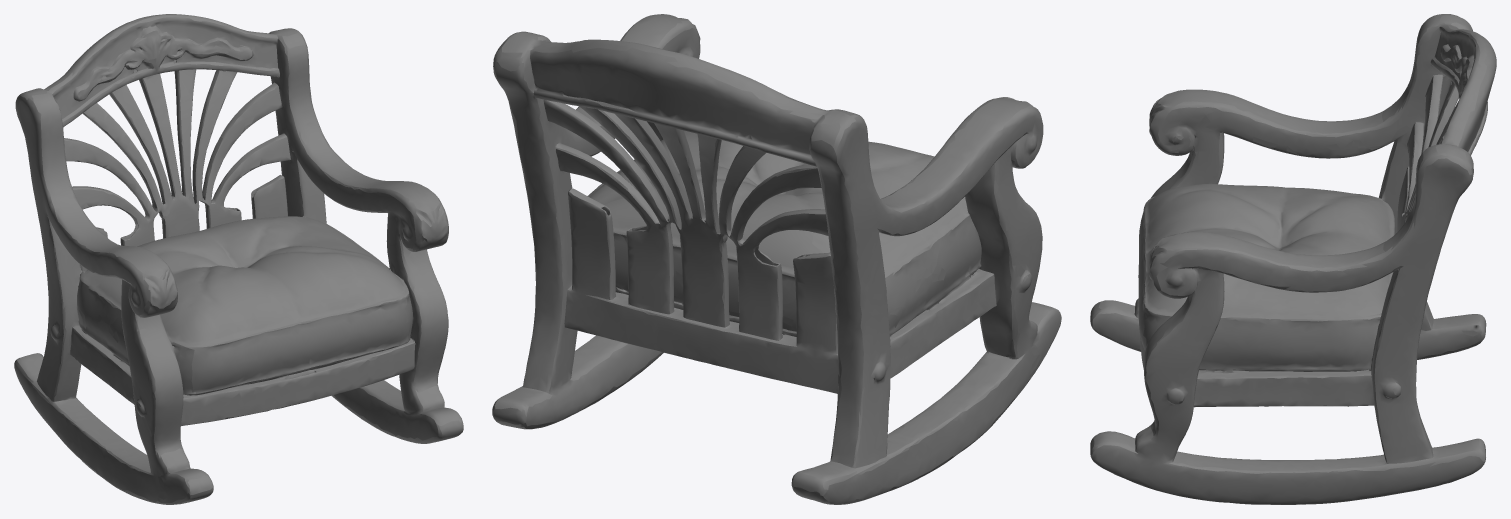
File: completion_rocker_1.glb
The picture shows the model from 3 angles, left to right: view 1: azimuth 30°, elevation 25°; view 2: azimuth 150°, elevation 25°; view 3: azimuth 270°, elevation 25°; orthographic projection. The views are drawn at different scales.
Parts seen in each view (by area): view 1: geometry_0; view 2: geometry_0; view 3: geometry_0.
Boxes of the visible parts, x1=… form: geometry_0: x1=14, y1=14, x2=463, y2=504; geometry_0: x1=492, y1=14, x2=1061, y2=504; geometry_0: x1=1090, y1=14, x2=1496, y2=504.
Bounding box in the file's own units: 0.9091 × 1 × 0.9573.
1 material, 1 textured.
